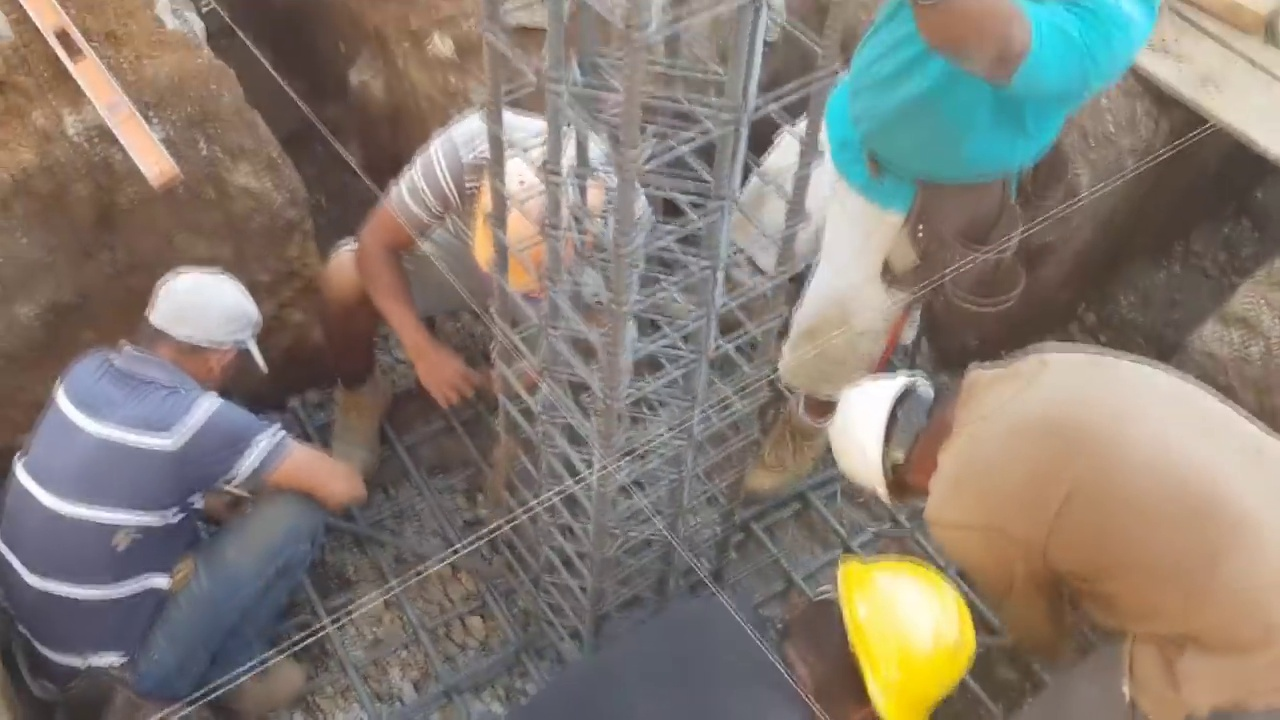helmet: (834, 553, 980, 720), (474, 155, 610, 301), (834, 361, 932, 513)
helmet-off: (129, 259, 268, 404)
helmet-on: (756, 551, 978, 720), (458, 148, 615, 307), (836, 355, 966, 511)
person: (745, 0, 1194, 490), (0, 262, 367, 720), (835, 345, 1280, 720), (328, 104, 648, 497), (491, 551, 979, 717)
